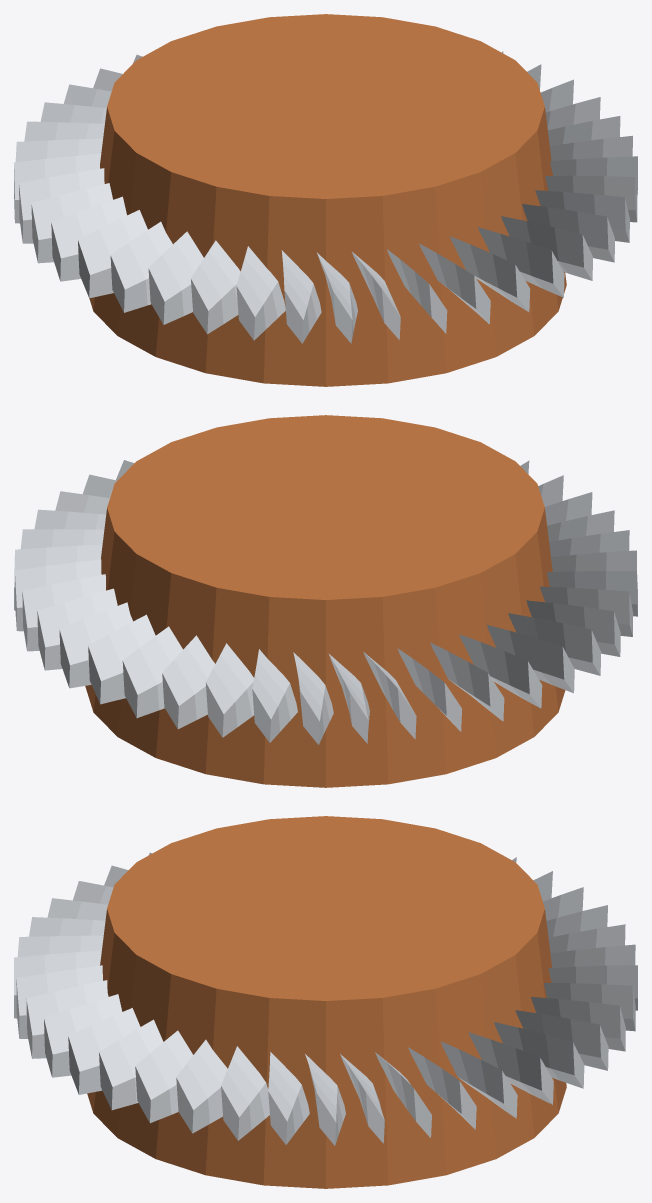
File: turbinedisc_quality.glb
3 views of the same model, one above another, from view 1: azimuth 30°, elevation 25°; view 2: azimuth 150°, elevation 25°; view 3: azimuth 270°, elevation 25° (orthographic).
Visible parts, largest first — view 1: turbinedisc_quality; view 2: turbinedisc_quality; view 3: turbinedisc_quality.
Part boxes in pixels (box(x1,y1,x2,y2)): turbinedisc_quality: box(14, 14, 637, 386); turbinedisc_quality: box(14, 415, 637, 787); turbinedisc_quality: box(14, 816, 637, 1188).
Size of the model in its own units: 0.228 by 0.096 by 0.228.
